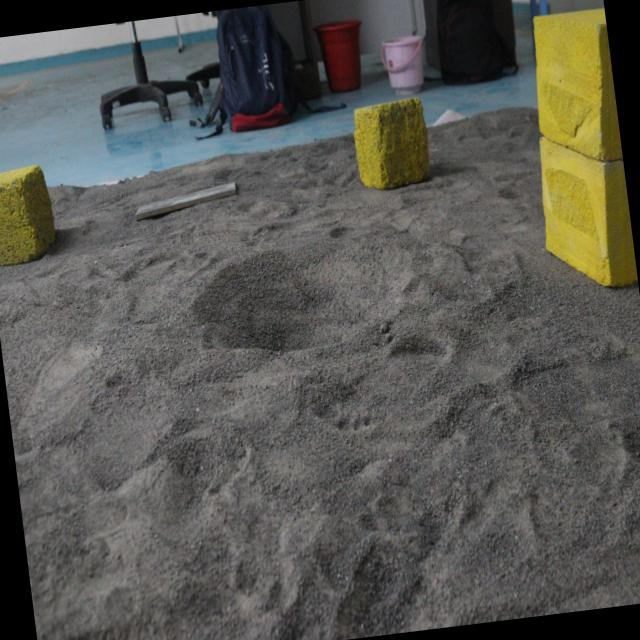box: (519, 0, 638, 298), (342, 92, 434, 198), (0, 159, 59, 272)
crater: (170, 218, 424, 384)
